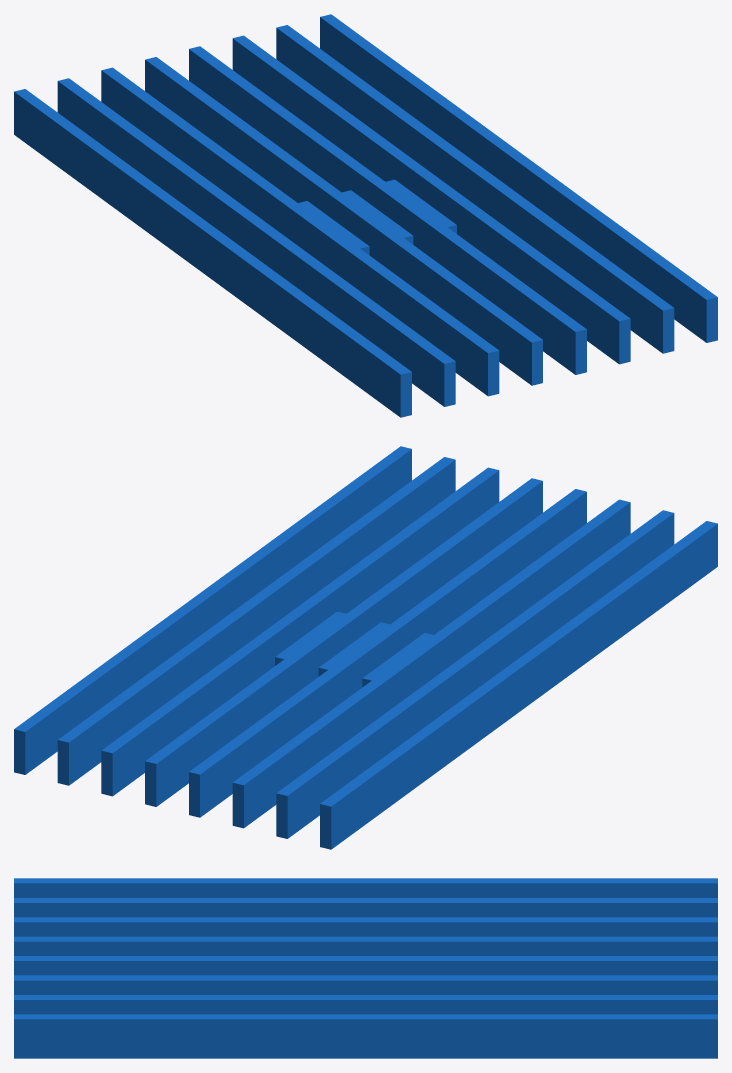
File: T_ceiling_boards.fbx
3 renders of one model, top to bottom at view 1: azimuth 30°, elevation 25°; view 2: azimuth 150°, elevation 25°; view 3: azimuth 270°, elevation 25°, orthographic. The views are drawn at different scales.
Parts seen in each view (by area): view 1: ceiling_boards; view 2: ceiling_boards; view 3: ceiling_boards.
Part boxes in pixels (<box>): ceiling_boards: <box>14,14,717,417</box>; ceiling_boards: <box>14,446,717,849</box>; ceiling_boards: <box>14,878,717,1058</box>.
Size of the model in its own units: 94.72 by 19.4 by 200.
